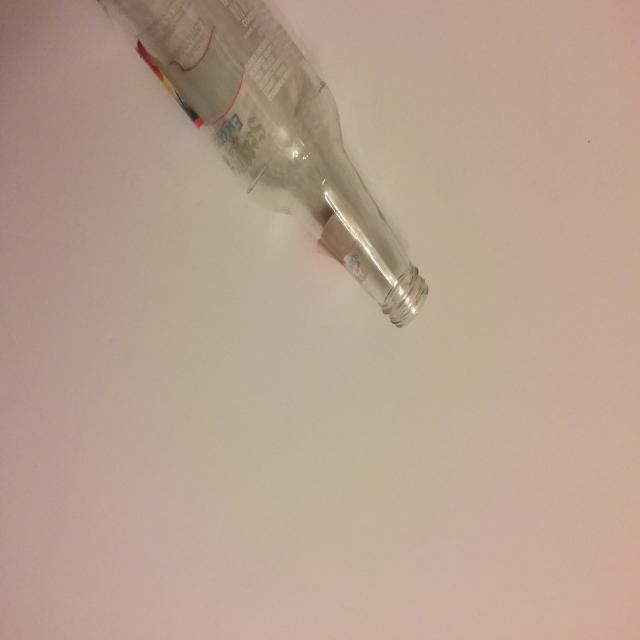glass: (93, 0, 430, 329)
